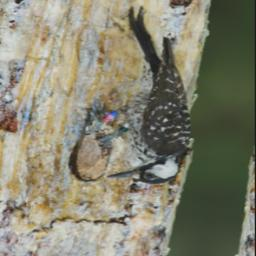Woodpecker: (76, 4, 218, 188)
